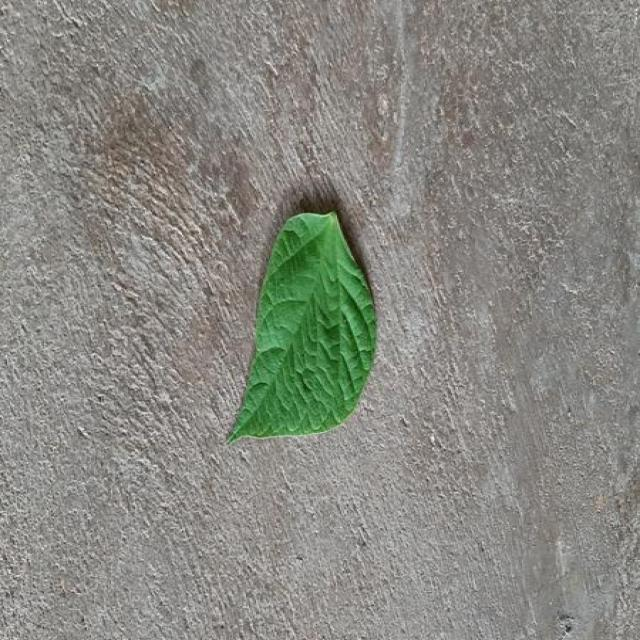beans: (228, 212, 377, 442)
